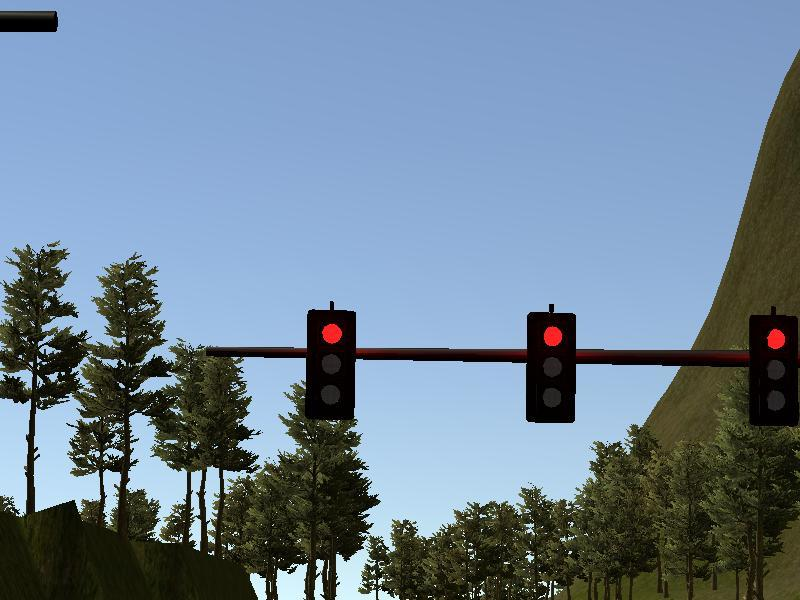Red: (304, 308, 354, 420), (749, 316, 800, 423), (527, 312, 575, 422)
